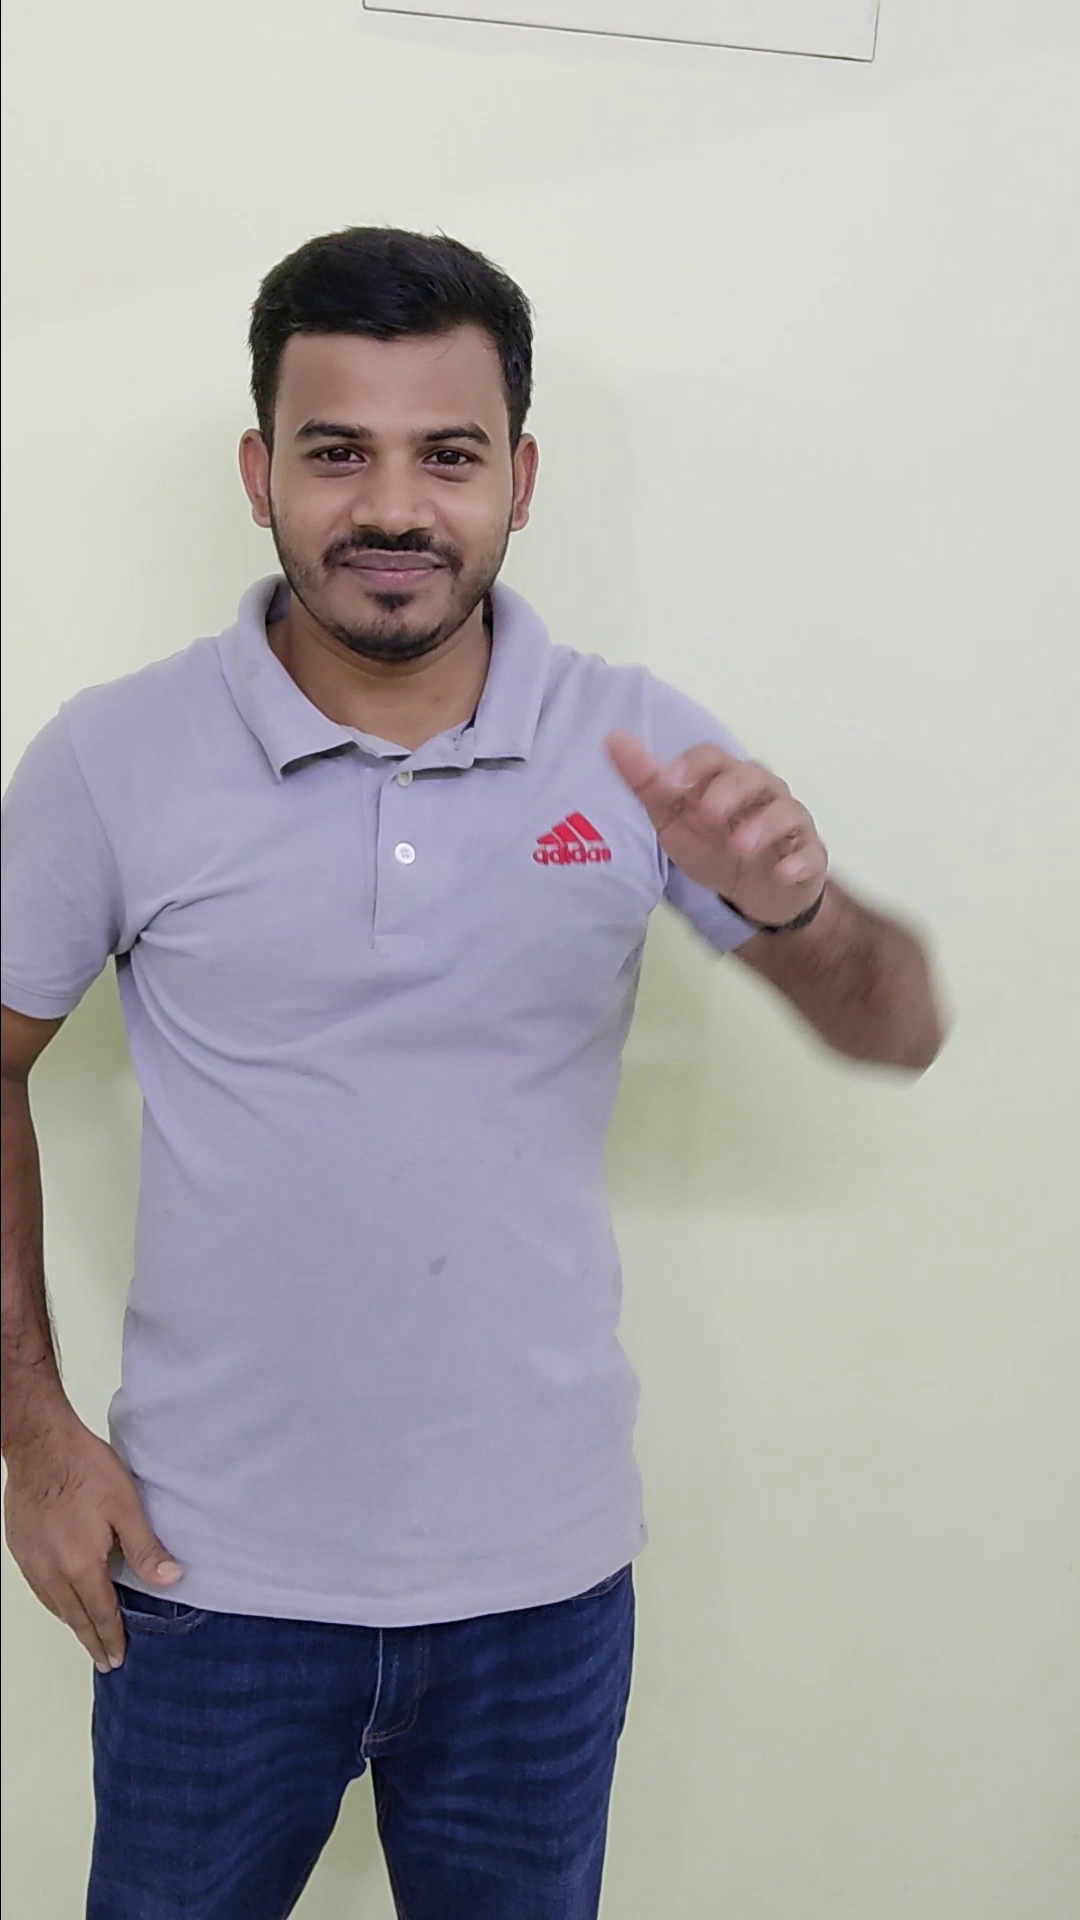Like: (579, 702, 869, 945)
None: (5, 1382, 199, 1673)
